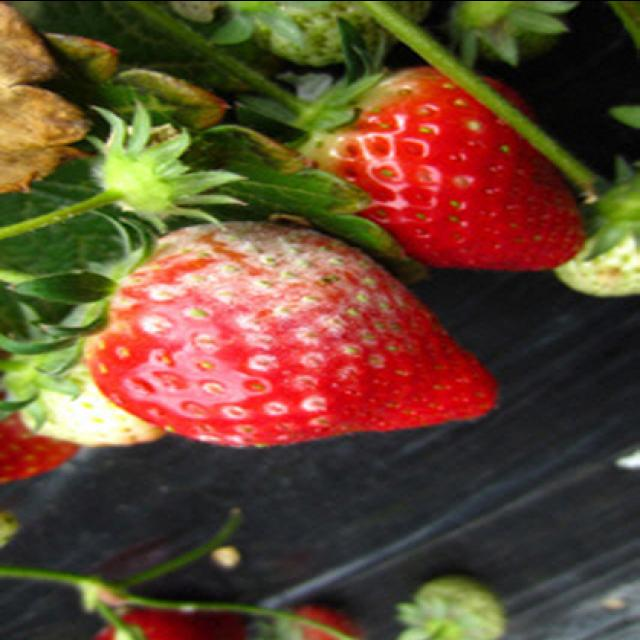Powdery Mildew Fruit: (83, 216, 425, 448)
